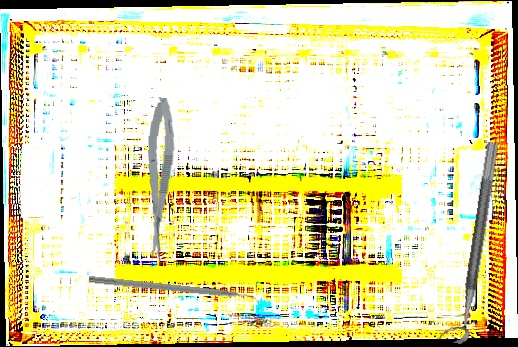Chopper: (87, 275, 264, 311)
Fixation Ring: (438, 138, 500, 346)
Micro Scissor: (138, 96, 179, 262)
